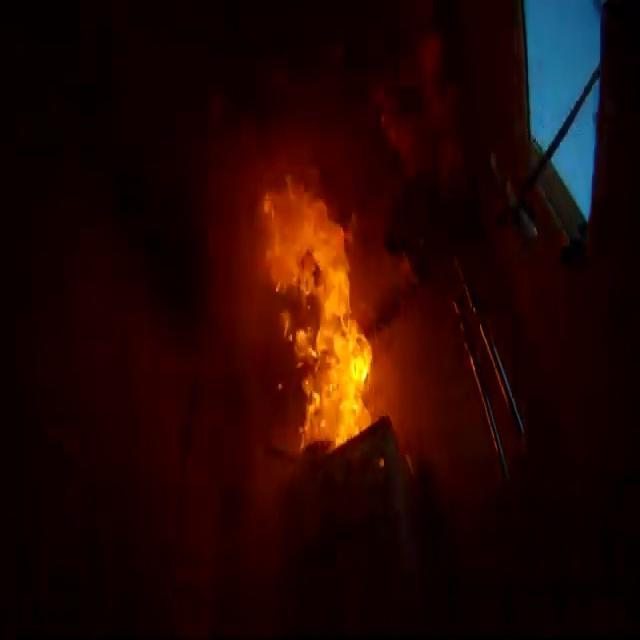fire: (246, 148, 384, 467)
